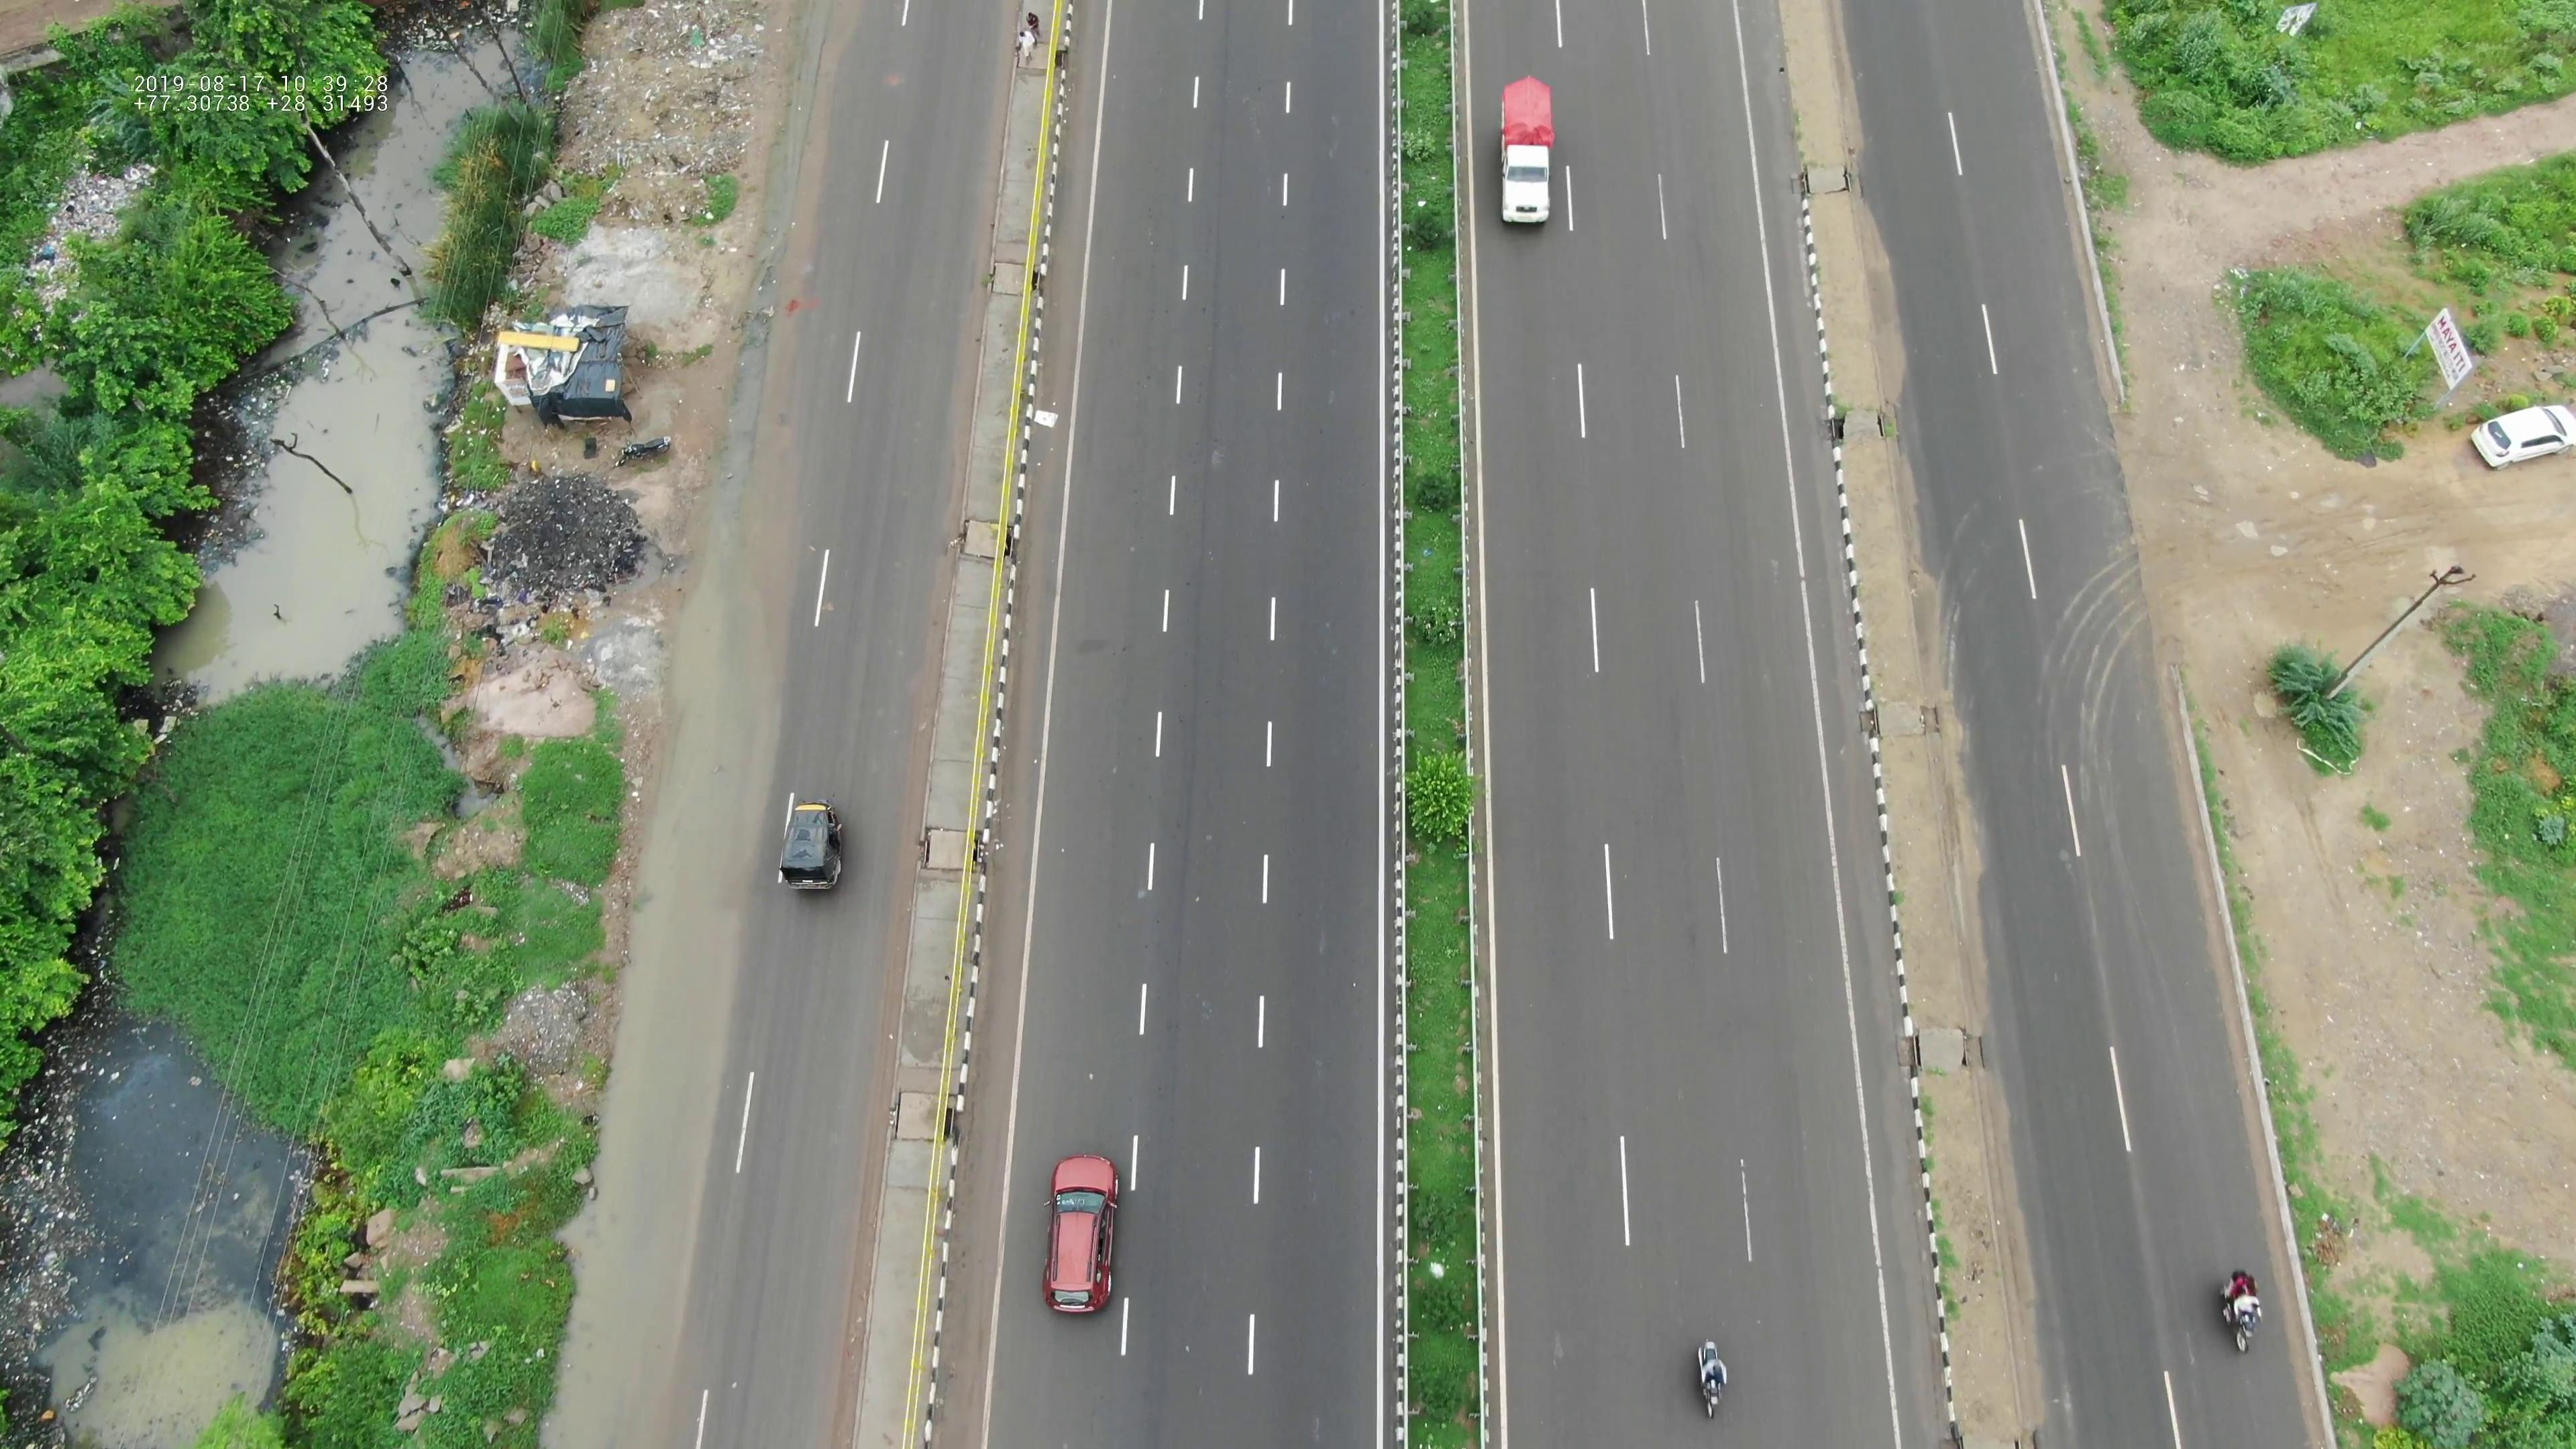Waterlogging: (609, 409, 814, 961), (545, 984, 738, 1421)
